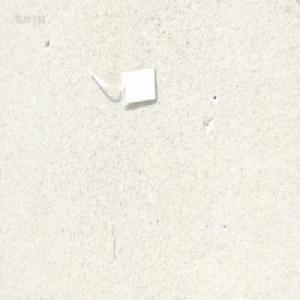LuggageTag: (84, 62, 156, 108)
